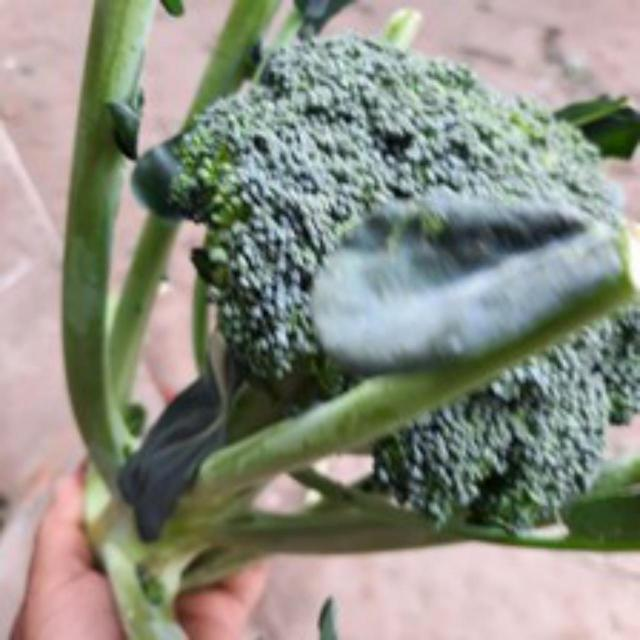broccoli: (134, 23, 637, 554)
